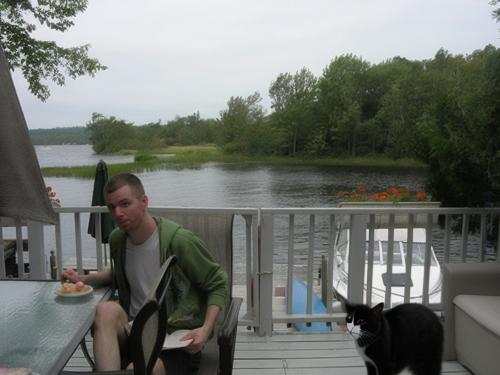boat: (324, 221, 445, 314)
cat: (345, 303, 443, 375)
chair: (61, 255, 176, 375)
diningtable: (1, 278, 117, 375)
person: (61, 172, 233, 372)
person/hand: (180, 328, 210, 356), (61, 269, 86, 287)
person/head: (104, 174, 148, 232)
pottedplant: (336, 186, 441, 227)
sofa: (443, 262, 500, 375)
